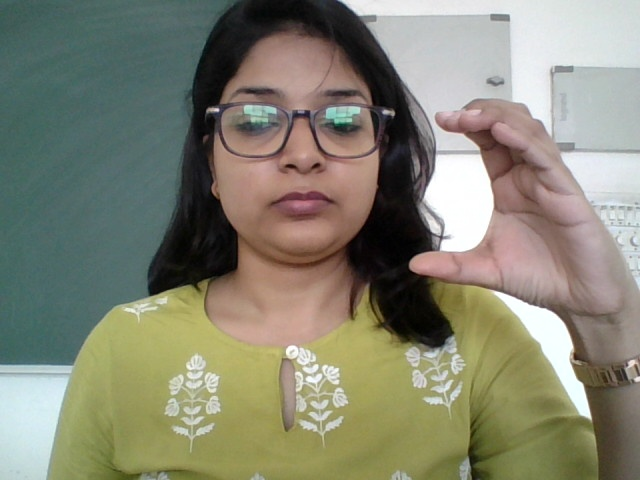C: (407, 96, 630, 350)
